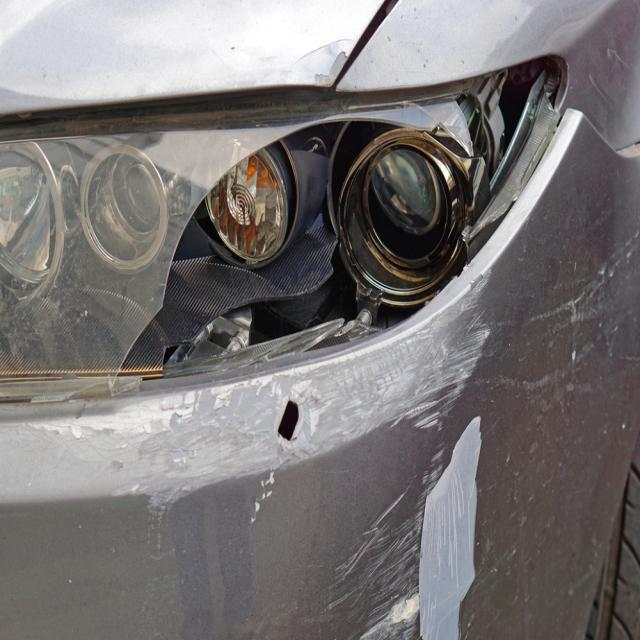Dechirure: (268, 389, 311, 456)
Phare abime: (99, 67, 557, 408)
Rayure: (330, 308, 570, 636)
